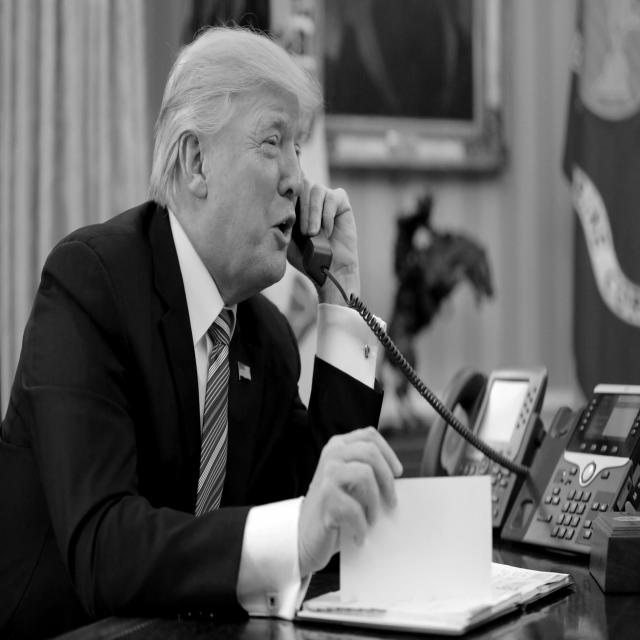phone: (275, 112, 394, 344)
